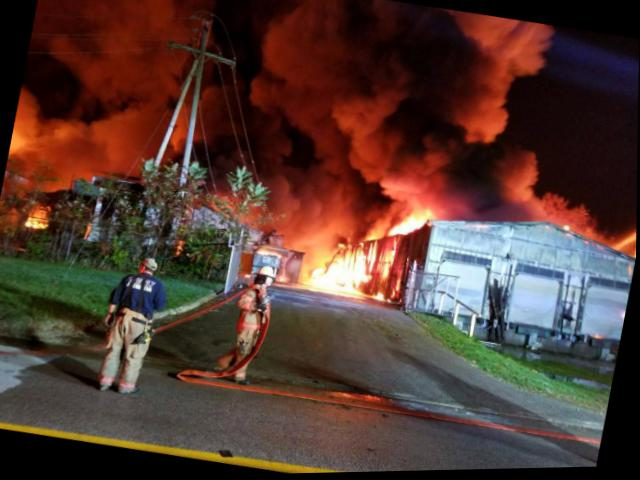fire: (301, 249, 368, 298), (388, 209, 424, 240)
smoke: (218, 0, 639, 245), (8, 0, 183, 178), (222, 176, 362, 250)
